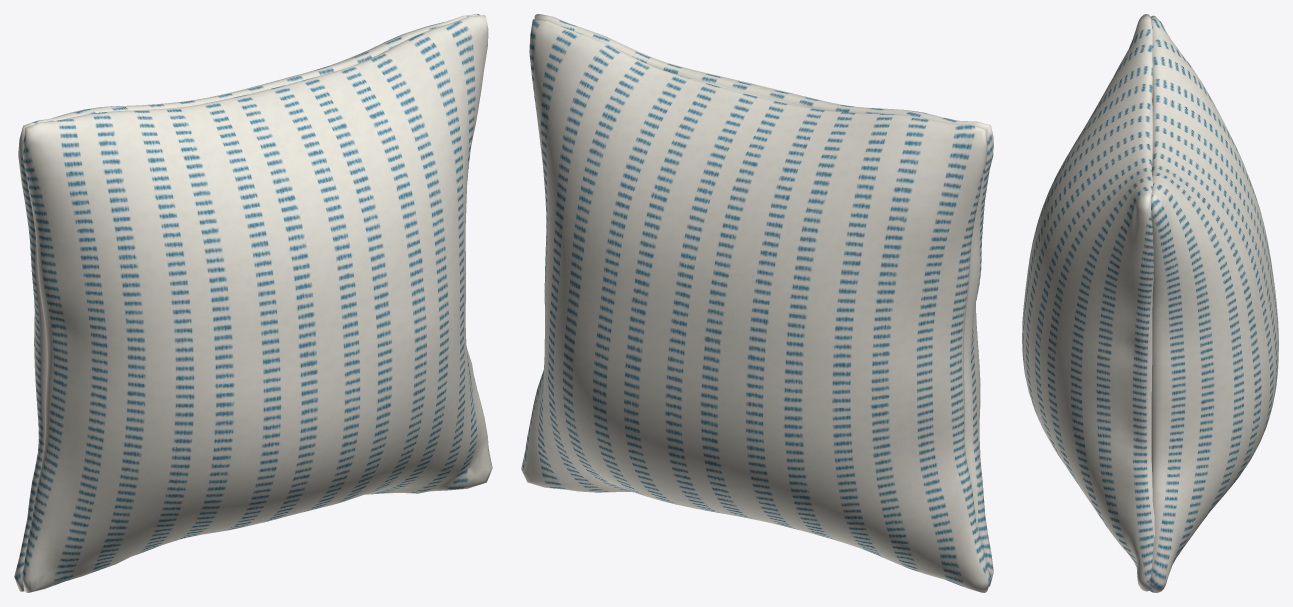
The picture shows the model from 3 angles, left to right: view 1: azimuth 30°, elevation 25°; view 2: azimuth 150°, elevation 25°; view 3: azimuth 270°, elevation 25°; orthographic projection. The views are drawn at different scales.
Parts seen in each view (by area): view 1: RootNode; view 2: RootNode; view 3: RootNode.
Boxes of the visible parts, left/top/right/bottom form: RootNode: left=14, top=14, right=492, bottom=592; RootNode: left=521, top=14, right=993, bottom=592; RootNode: left=1022, top=14, right=1278, bottom=592.
Size of the model in its own units: 0.4381 by 0.4188 by 0.2469.
Materials: 1 (1 with a texture image).
